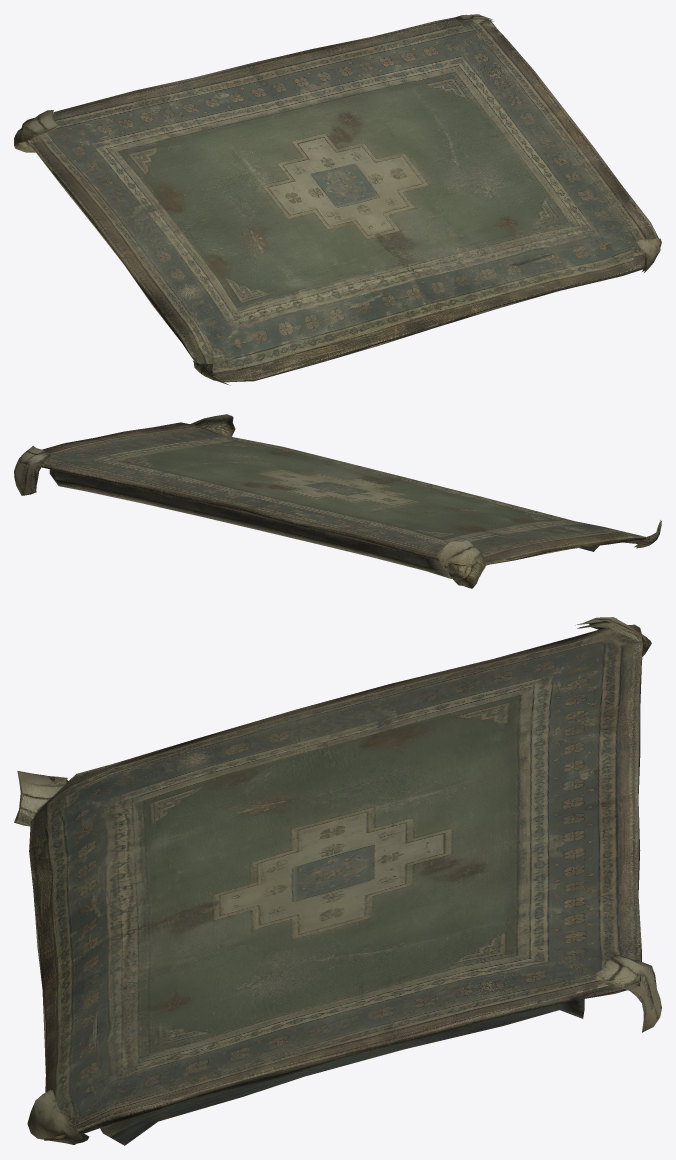
Rendered from carpet.fbx.
The picture shows the model from 3 angles, top to bottom: view 1: azimuth 30°, elevation 25°; view 2: azimuth 150°, elevation 25°; view 3: azimuth 270°, elevation 25°; orthographic projection. The views are drawn at different scales.
Visible parts, largest first — view 1: mesh_node; view 2: mesh_node; view 3: mesh_node.
Boxes of the visible parts, x1,y1,x2,y2 form: mesh_node: (14, 14, 661, 385); mesh_node: (14, 414, 661, 588); mesh_node: (14, 617, 661, 1145).
Size of the model in its own units: 100 by 28.22 by 75.39.
1 material, 1 textured.
